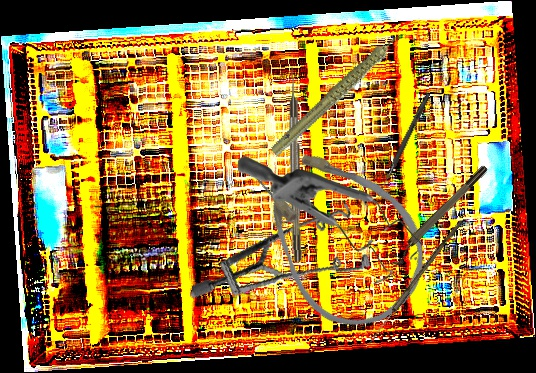Cannula: (227, 117, 451, 350)
Fixation Ring: (385, 163, 494, 269)
Handpiece: (252, 30, 429, 158)
Hook Surgical: (377, 91, 431, 197), (288, 65, 302, 263)
Speculum: (189, 169, 384, 339), (237, 153, 424, 287)
Surgical Spoon: (366, 218, 463, 347)
